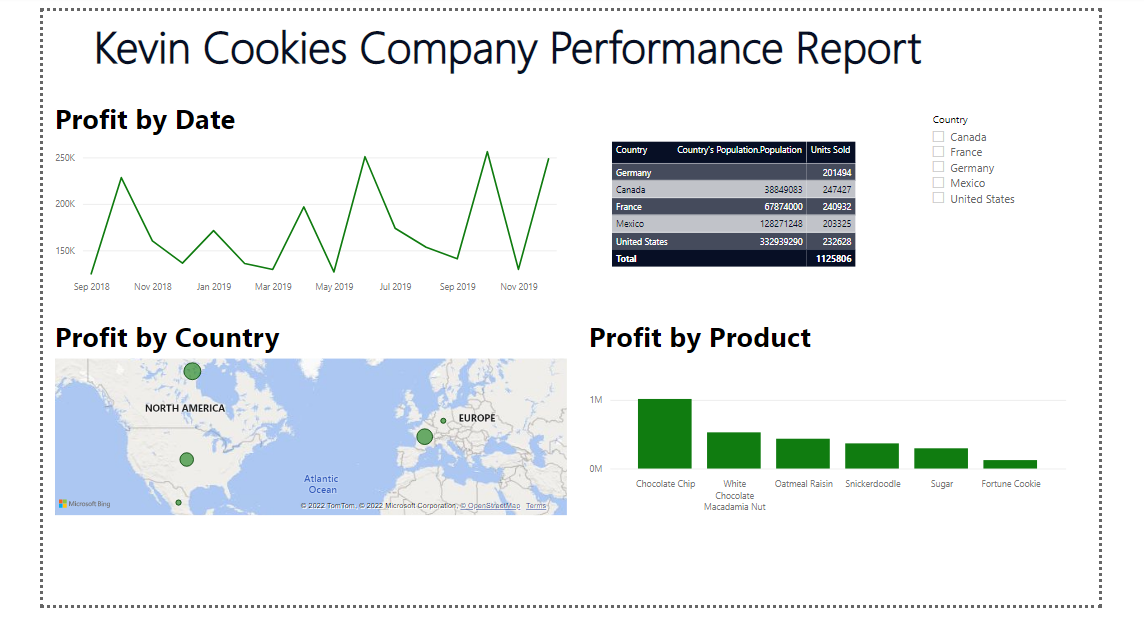

Layout of this report page (visuals, bound fields, positions):
{"tool":"powerbi","page":{"name":"Page 1","canvas":[1280,720],"ordinal":0},"visuals":[{"type":"textbox","box":[9.5,0,1107.7,128.8],"z":0},{"type":"lineChart","fields":{"Category":["Cookie Sales.Date"],"Y":["Sum(Cookie Sales.Profit)"]},"box":[9.3,107.3,631.4,245.7],"z":1000},{"type":"map","fields":{"Category":["Cookie Sales.Country"],"Size":["Sum(Cookie Sales.Profit)"]},"box":[9,370,631,246],"z":2000},{"type":"tableEx","fields":{"Values":["Cookie Sales.Country","Cookie Sales.Country's Population.Population","Sum(Cookie Sales.Units Sold)"]},"box":[683.6,152.7,367.3,218.2],"z":3000},{"type":"columnChart","fields":{"Category":["Cookie Sales.Product"],"Y":["Sum(Cookie Sales.Profit)"]},"box":[656.4,370.9,589.1,245.5],"z":4000},{"type":"slicer","fields":{"Values":["Cookie Sales.Country"]},"box":[1065.5,118.2,180,234.5],"z":5000}]}

Visuals, with their boxes on the page's 1280x720 design canvas (x1, y1, x2, y2). These are canvas units, not pixel positions in the 1144x619 screenshot, which may show the page scaled, cropped or inside an application window:
textbox: 10/0/1117/129
lineChart - Cookie Sales.Date x Sum(Cookie Sales.Profit): 9/107/641/353
map - Cookie Sales.Country x Sum(Cookie Sales.Profit): 9/370/640/616
tableEx - Cookie Sales.Country x Cookie Sales.Country's Population.Population: 684/153/1051/371
columnChart - Cookie Sales.Product x Sum(Cookie Sales.Profit): 656/371/1246/616
slicer - Cookie Sales.Country: 1066/118/1246/353
